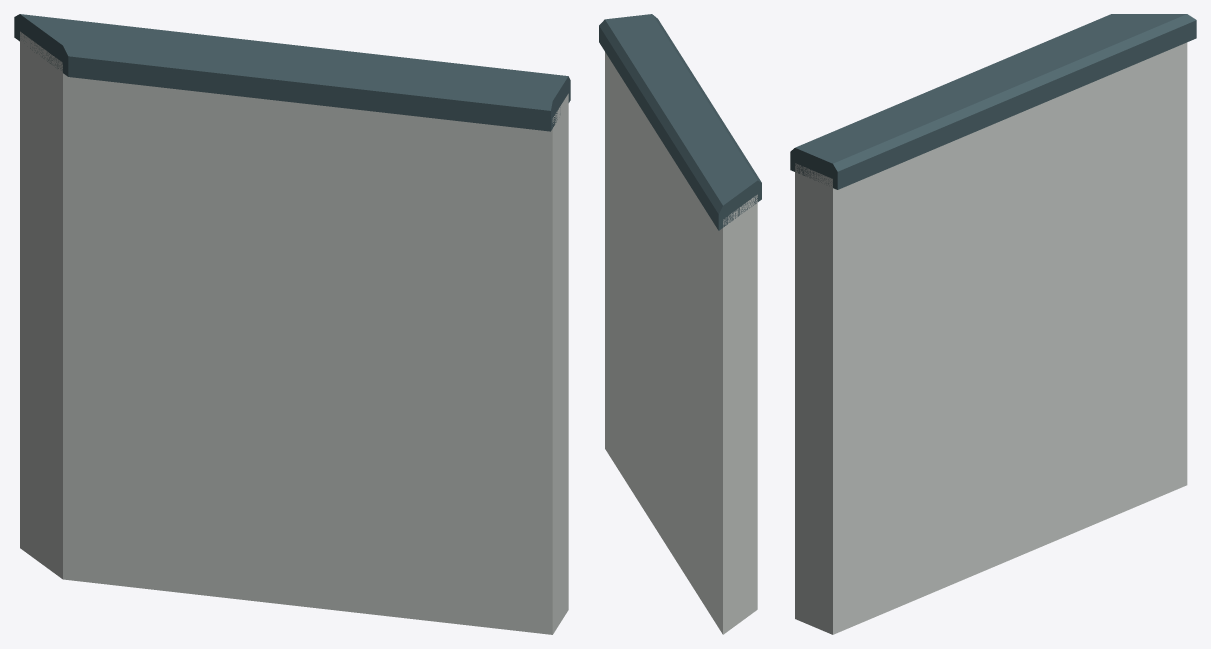
The model's file is halfwall_45_starboard_miter_7071_7071_0_14142.glb.
The picture shows the model from 3 angles, left to right: view 1: azimuth 30°, elevation 25°; view 2: azimuth 150°, elevation 25°; view 3: azimuth 270°, elevation 25°; orthographic projection. The views are drawn at different scales.
Parts seen in each view (by area): view 1: Seamless solid halfwall.061, Seamless top cap.061; view 2: Seamless solid halfwall.061, Seamless top cap.061; view 3: Seamless solid halfwall.061, Seamless top cap.061.
Boxes of the visible parts, <box> form: Seamless solid halfwall.061: <box>20,31,568,634</box>; Seamless top cap.061: <box>14,14,570,131</box>; Seamless solid halfwall.061: <box>605,52,757,634</box>; Seamless top cap.061: <box>599,14,761,230</box>; Seamless solid halfwall.061: <box>795,42,1187,634</box>; Seamless top cap.061: <box>790,14,1196,189</box>.
Bounding box in the file's own units: 0.5354 × 0.775 × 0.6061.
